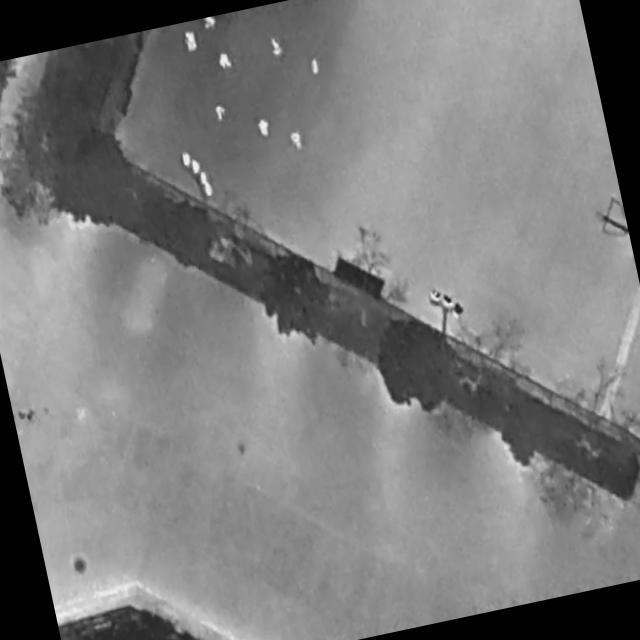person: (216, 49, 235, 72), (183, 30, 199, 55), (256, 118, 273, 140), (213, 102, 229, 124), (290, 131, 305, 153), (270, 36, 285, 58), (308, 56, 322, 77), (204, 17, 219, 30)
